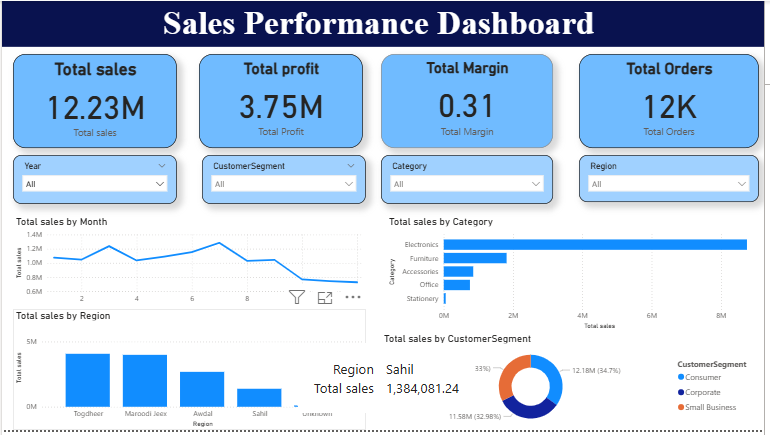

What the dashboard file says about the page in this screenshot:
{"tool":"powerbi","page":{"name":"Page 1","canvas":[1280,720],"ordinal":0},"visuals":[{"type":"card","title":"Total sales","fields":{"Values":["FactSales.Total sales"]},"box":[18.5,89,275.5,157.9],"z":0},{"type":"card","title":"Total profit","fields":{"Values":["FactSales.Total Profit"]},"box":[330.9,89,275.5,157.9],"z":1000},{"type":"card","title":"Total Margin","fields":{"Values":["FactSales.Total Margin"]},"box":[636.6,89,288.9,157.9],"z":2000},{"type":"card","title":"Total Orders","fields":{"Values":["FactSales.Total Orders"]},"box":[969.2,89,302.4,157.9],"z":3000},{"type":"lineChart","fields":{"Category":["DimDate.Month"],"Y":["FactSales.Total sales"]},"box":[18.5,359.5,593,157.9],"z":4000},{"type":"barChart","fields":{"Y":["FactSales.Total sales"],"Category":["DimProduct.Category"]},"box":[645,359.5,635,196.5],"z":5000},{"type":"donutChart","fields":{"Category":["DimCustomer.CustomerSegment"],"Y":["FactSales.Total sales"]},"box":[636.6,556,635,164.6],"z":6000},{"type":"clusteredColumnChart","fields":{"Y":["FactSales.Total sales"],"Category":["DimLocation.Region"]},"box":[18.5,517.4,593,203.3],"z":7000},{"type":"slicer","fields":{"Values":["DimDate.Year"]},"box":[18.5,258.7,275.5,82.3],"z":8000},{"type":"slicer","fields":{"Values":["DimLocation.Region"]},"box":[969.2,258.7,302.4,79],"z":9000},{"type":"slicer","fields":{"Values":["DimProduct.Category"]},"box":[636.6,258.7,288.9,82.3],"z":10000},{"type":"slicer","fields":{"Values":["DimCustomer.CustomerSegment"]},"box":[336,258.7,275.5,82.3],"z":11000},{"type":"textbox","box":[0,0,1280,77.3],"z":12000}]}

Visuals, with their boxes in screenshot pixels (x1, y1, x2, y2), scaled from the page's 1280x720 canvas onto the 770x435 screenshot:
"Total sales" card: bbox=[11, 54, 177, 149]
"Total profit" card: bbox=[199, 54, 365, 149]
"Total Margin" card: bbox=[383, 54, 557, 149]
"Total Orders" card: bbox=[583, 54, 765, 149]
lineChart - DimDate.Month x FactSales.Total sales: bbox=[11, 217, 368, 313]
barChart - FactSales.Total sales x DimProduct.Category: bbox=[388, 217, 769, 336]
donutChart - DimCustomer.CustomerSegment x FactSales.Total sales: bbox=[383, 336, 765, 434]
clusteredColumnChart - FactSales.Total sales x DimLocation.Region: bbox=[11, 313, 368, 434]
slicer - DimDate.Year: bbox=[11, 156, 177, 206]
slicer - DimLocation.Region: bbox=[583, 156, 765, 204]
slicer - DimProduct.Category: bbox=[383, 156, 557, 206]
slicer - DimCustomer.CustomerSegment: bbox=[202, 156, 368, 206]
textbox: bbox=[0, 0, 769, 47]
